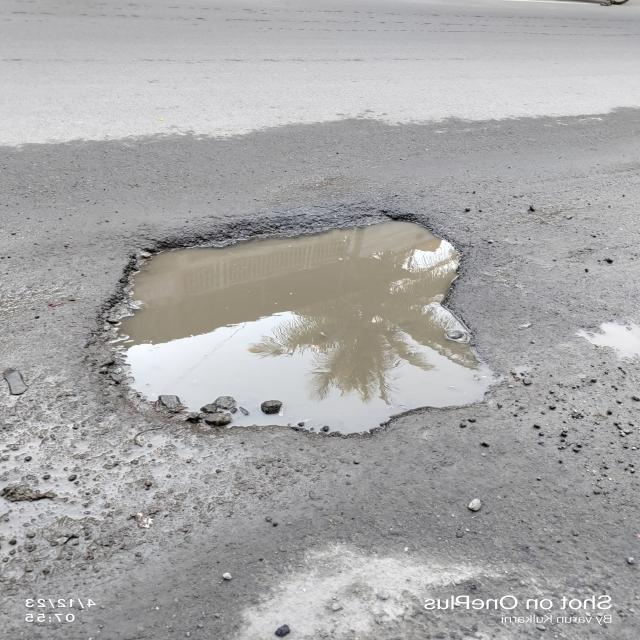Puddle pothole: (86, 204, 504, 443)
